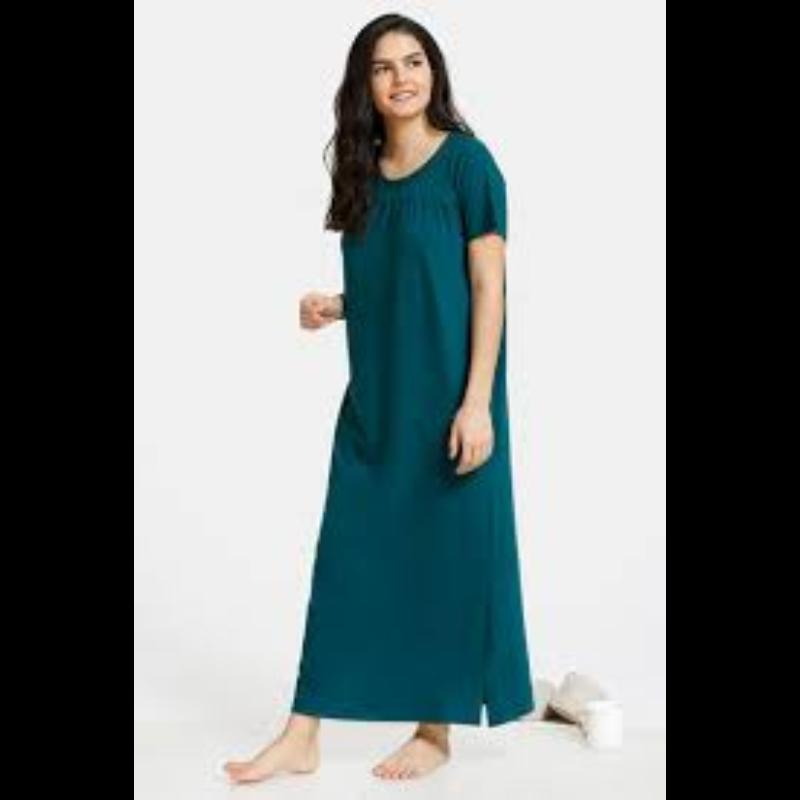Maxi: (257, 123, 543, 731)
